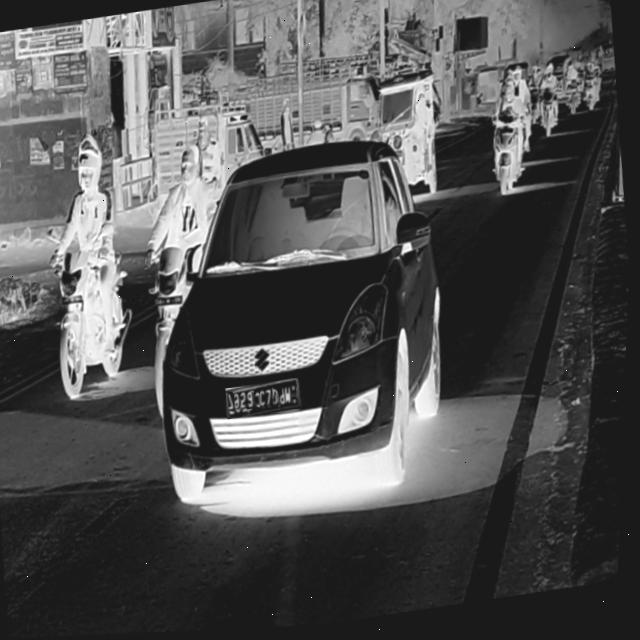0: (274, 389, 282, 409)
5: (242, 392, 250, 412)
7: (267, 391, 276, 409), (230, 394, 237, 413)
9: (248, 393, 257, 412), (236, 395, 243, 411)
C: (255, 391, 263, 412), (261, 391, 269, 410)
IND: (292, 386, 301, 402)
Indian_registered: (229, 382, 302, 421)
M: (286, 388, 295, 408)
P: (281, 390, 288, 409)
